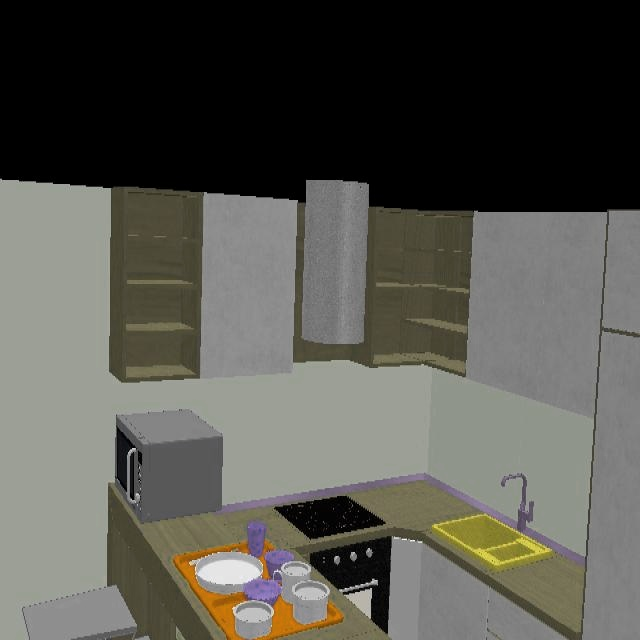cabinet: (110, 180, 640, 463)
chair: (19, 587, 142, 640)
countertop: (142, 481, 478, 553)
microwave: (114, 411, 224, 523)
oven: (310, 539, 399, 629)
sink: (428, 515, 556, 572)
stove: (272, 496, 385, 540)
